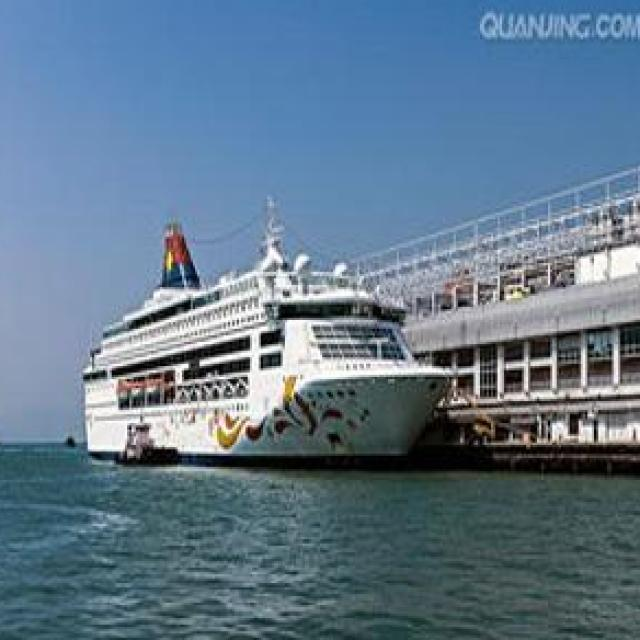passenger ship: (74, 224, 453, 463)
